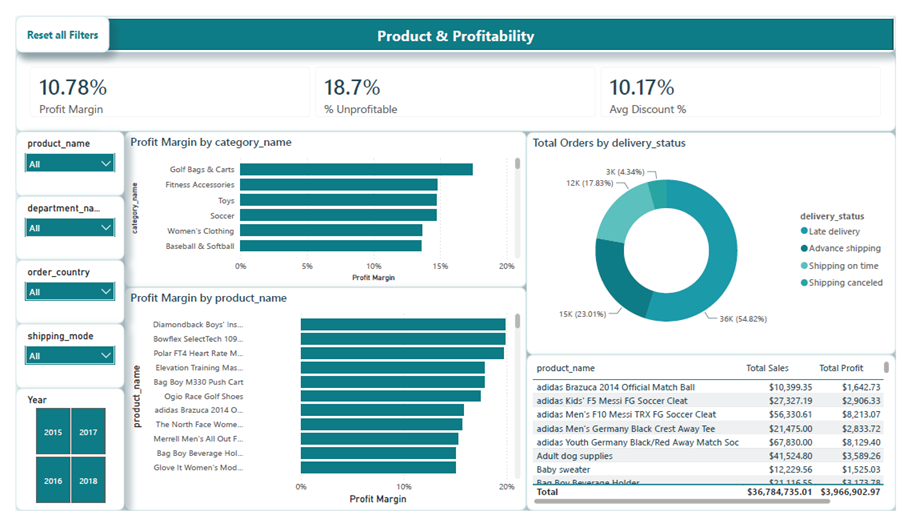

The dashboard page shown, as its layout file describes it:
{"tool":"powerbi","page":{"name":"Product & Profitability","canvas":[1280,720],"ordinal":3},"visuals":[{"type":"cardVisual","fields":{"Data":["fact_order_line.Profit Margin","fact_order_line.% Unprofitable","fact_order_line.Avg Discount %"]},"box":[0,53.3,1280,115],"z":0},{"type":"barChart","fields":{"Y":["fact_order_line.Profit Margin"],"Category":["dim_product.category_name"]},"box":[158.3,168.3,585,226.7],"z":1000},{"type":"slicer","fields":{"Values":["dim_geo.market"]},"box":[0,168.6,118.6,75.7],"z":2000},{"type":"shape","title":"Sale and demans","box":[0,0,1280,53.3],"z":5000},{"type":"clusteredBarChart","fields":{"Category":["dim_product.product_name"],"Y":["fact_order_line.Profit Margin"]},"box":[158.3,395,585,325],"z":6000},{"type":"donutChart","fields":{"Category":["fact_order_line.delivery_status"],"Y":["fact_order_line.Total Orders"]},"box":[743,169,537,324],"z":7000},{"type":"tableEx","fields":{"Values":["dim_product.product_name","fact_order_line.Total Sales","fact_order_line.Total Profit","fact_order_line.Profit Margin"]},"box":[743,493,537,227],"z":8000},{"type":"slicer","fields":{"Values":["dim_product.product_name"]},"box":[0,168.3,158.3,93.3],"z":8001},{"type":"slicer","fields":{"Values":["dim_product.department_name"]},"box":[0,261.7,158.3,93.3],"z":8002},{"type":"slicer","fields":{"Values":["dim_geo.order_country"]},"box":[0,355,158.3,93.3],"z":8003},{"type":"slicer","fields":{"Values":["dim_shipping_mode.shipping_mode"]},"box":[0,448.3,158.3,93.3],"z":8004},{"type":"slicer","fields":{"Values":["dim_date.full_date.Variation.Date Hierarchy.Year"]},"box":[0,541.7,158.3,178.3],"z":8005},{"type":"actionButton","box":[1.7,0,116.7,53.3],"z":8006}]}

Visuals, with their boxes in screenshot pixels (x1, y1, x2, y2), scaled from the page's 1280x720 canvas onto the 898x511 screenshot:
cardVisual - fact_order_line.Profit Margin x fact_order_line.% Unprofitable: <bbox>0, 38, 897, 119</bbox>
barChart - fact_order_line.Profit Margin x dim_product.category_name: <bbox>111, 119, 521, 280</bbox>
slicer - dim_geo.market: <bbox>0, 120, 83, 173</bbox>
"Sale and demans" shape: <bbox>0, 0, 897, 38</bbox>
clusteredBarChart - dim_product.product_name x fact_order_line.Profit Margin: <bbox>111, 280, 521, 510</bbox>
donutChart - fact_order_line.delivery_status x fact_order_line.Total Orders: <bbox>521, 120, 897, 350</bbox>
tableEx - dim_product.product_name x fact_order_line.Total Sales: <bbox>521, 350, 897, 510</bbox>
slicer - dim_product.product_name: <bbox>0, 119, 111, 186</bbox>
slicer - dim_product.department_name: <bbox>0, 186, 111, 252</bbox>
slicer - dim_geo.order_country: <bbox>0, 252, 111, 318</bbox>
slicer - dim_shipping_mode.shipping_mode: <bbox>0, 318, 111, 384</bbox>
slicer - dim_date.full_date.Variation.Date Hierarchy.Year: <bbox>0, 384, 111, 510</bbox>
actionButton: <bbox>1, 0, 83, 38</bbox>
